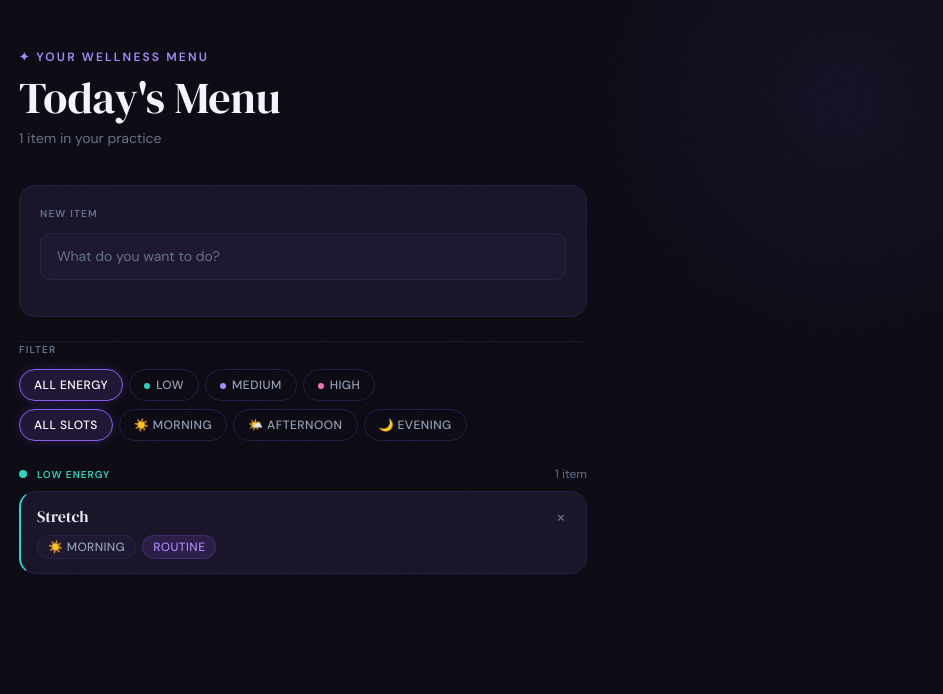
Scenario: App — energy filter › shows no items when the energy filter matches nothing
The image size is (943, 694).
Expected: the text "Stretch" is shown, [37, 505, 88, 527]
What coordinates should you click on to do the following:
click the button "High"
I would click on:
 (339, 385)
Its box is [303, 369, 375, 401].
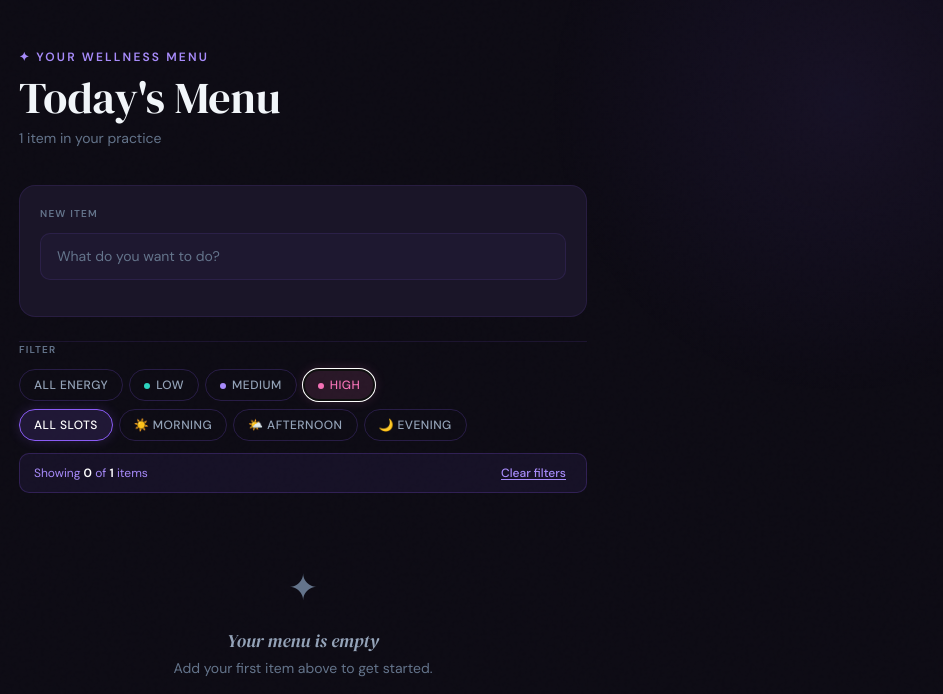
Expected: the text "Stretch" is gone
